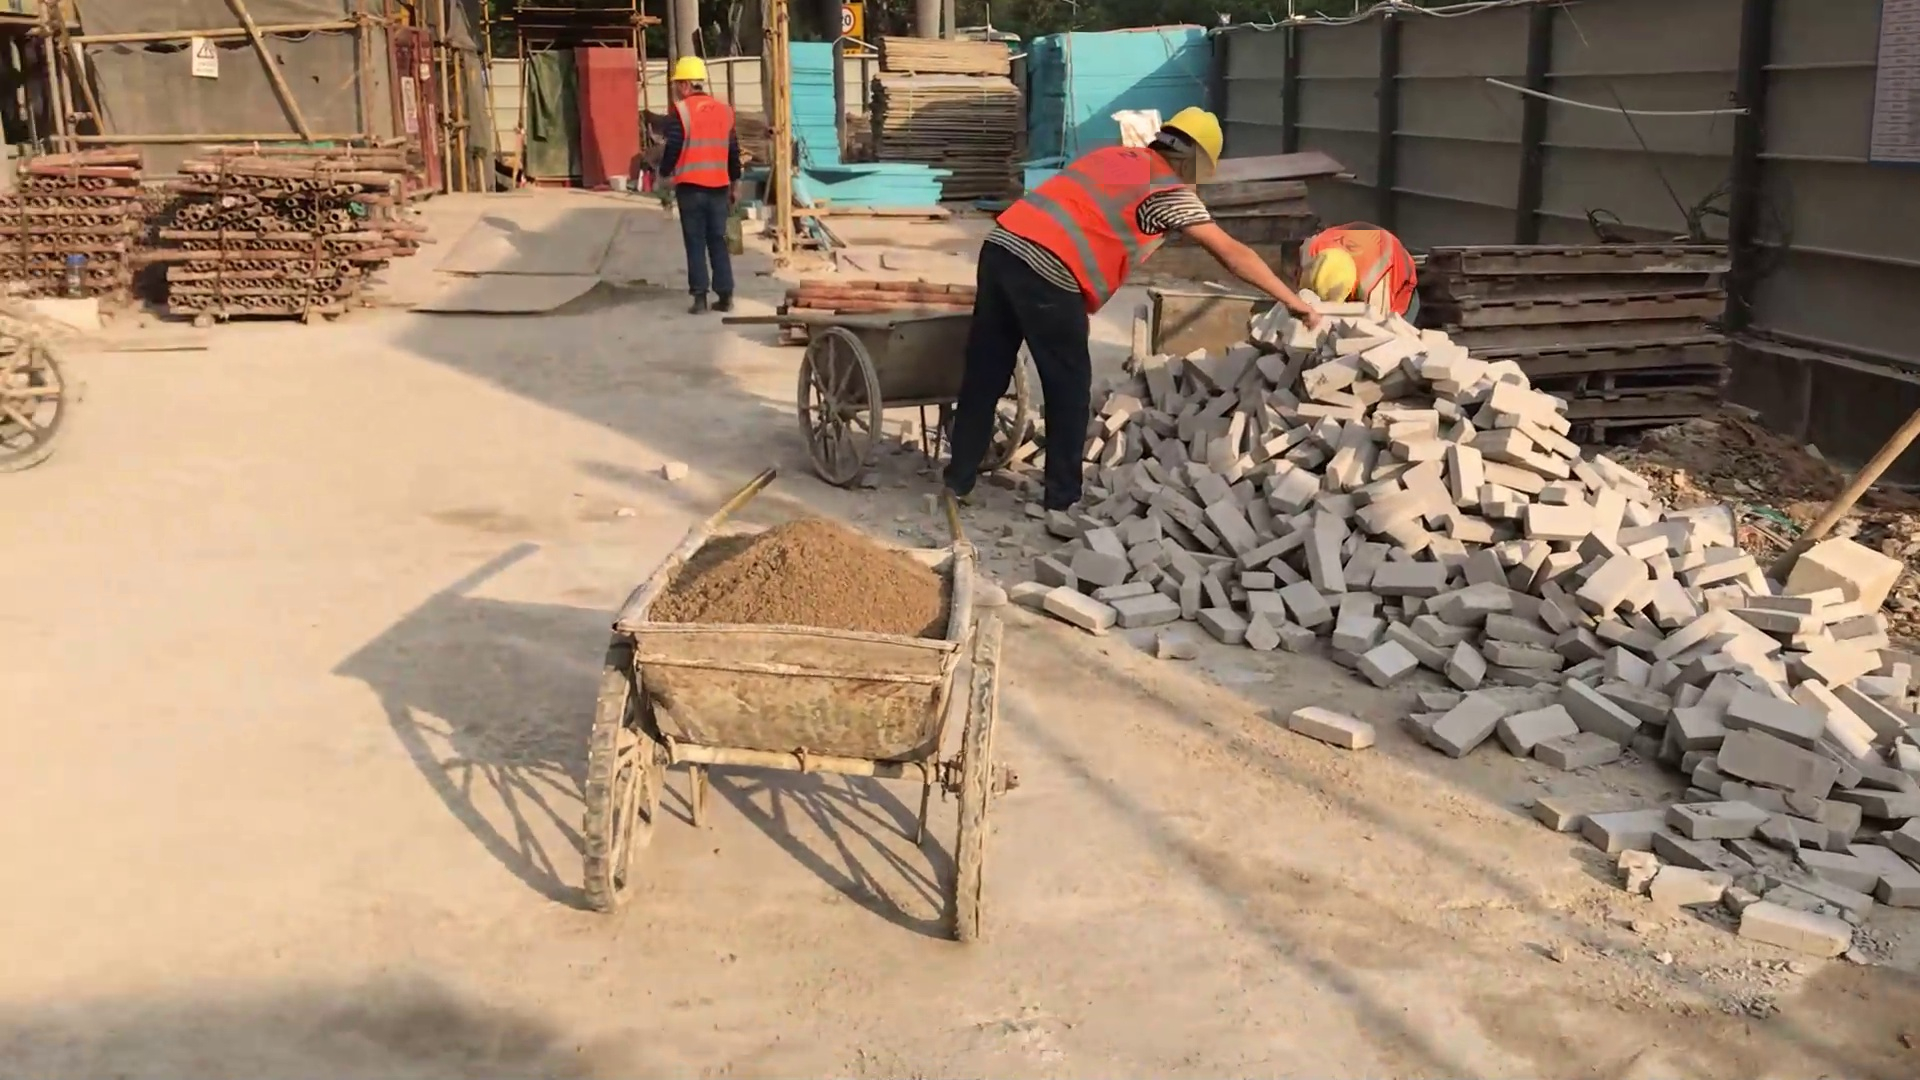board: (868, 32, 1025, 209)
handcart: (576, 466, 1020, 948), (721, 305, 1030, 490), (1, 294, 83, 471)
helmet: (1151, 102, 1226, 173), (1300, 244, 1360, 305), (666, 50, 708, 94)
person: (939, 100, 1326, 528), (655, 52, 745, 317), (1295, 217, 1420, 334)
scaffold: (162, 144, 418, 327), (1, 149, 153, 294)
slogan: (397, 70, 421, 137), (840, 1, 866, 58), (191, 37, 218, 77)
vest: (992, 140, 1188, 311), (1308, 220, 1418, 319), (667, 92, 738, 188)
